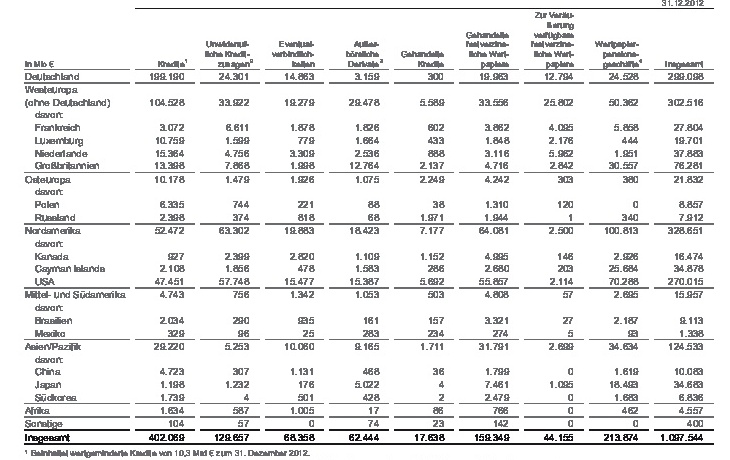table: (0, 0, 730, 460)
